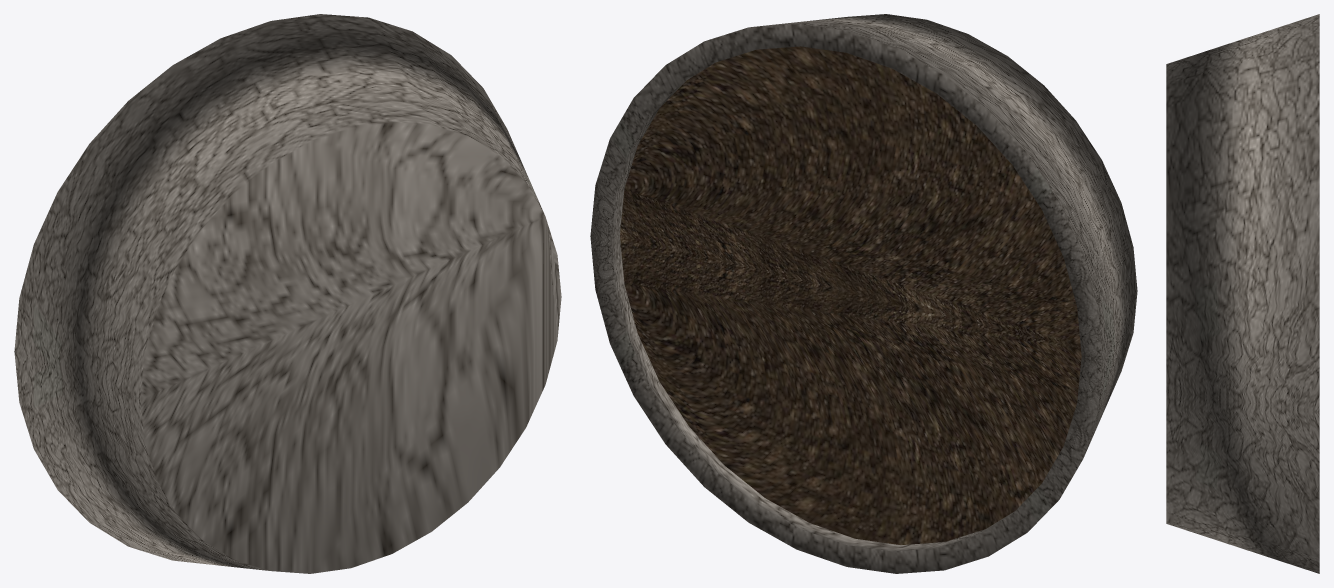
Rendered from vasefbx.fbx.
3 views of the same model, side by side, from view 1: azimuth 30°, elevation 25°; view 2: azimuth 150°, elevation 25°; view 3: azimuth 270°, elevation 25° (orthographic). The views are drawn at different scales.
Visible parts, largest first — view 1: Cylinder; view 2: Cylinder.001, Cylinder; view 3: Cylinder.
Part boxes in pixels (x1,y1,x2,y2): Cylinder: [14, 14, 561, 573]; Cylinder.001: [620, 46, 1081, 544]; Cylinder: [590, 14, 1137, 573]; Cylinder: [1166, 14, 1319, 573].
Bounding box in the file's own units: 253 × 253 × 69.09.
